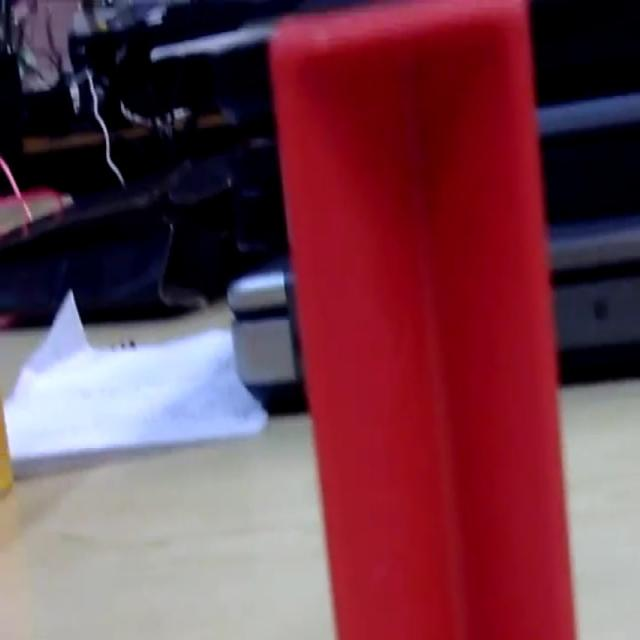red_block: (266, 1, 578, 636)
